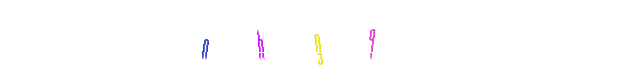9: (278, 0, 358, 80)
G: (273, 0, 353, 80)
H: (270, 0, 350, 80)
N: (165, 0, 245, 80)
